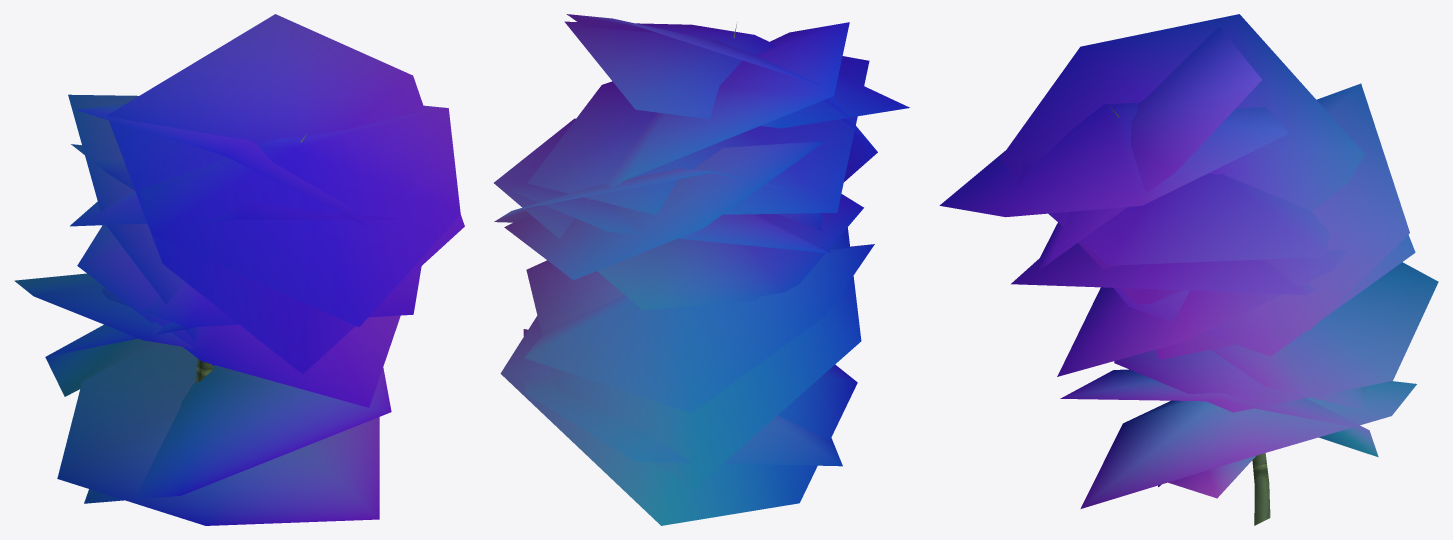
The model's file is SM_EastLands_Bamboo_Small_02_Trunk.fbx.
3 renders of one model, left to right at view 1: azimuth 30°, elevation 25°; view 2: azimuth 150°, elevation 25°; view 3: azimuth 270°, elevation 25°, orthographic. The views are drawn at different scales.
Visible parts, largest first — view 1: SM_EastLands_Bamboo_Small_02_Trunk_LOD0; view 2: SM_EastLands_Bamboo_Small_02_Trunk_LOD0; view 3: SM_EastLands_Bamboo_Small_02_Trunk_LOD0.
Part boxes in pixels (x1,y1,x2,y2): SM_EastLands_Bamboo_Small_02_Trunk_LOD0: [14, 14, 464, 525]; SM_EastLands_Bamboo_Small_02_Trunk_LOD0: [494, 14, 909, 525]; SM_EastLands_Bamboo_Small_02_Trunk_LOD0: [939, 14, 1438, 525].
Size of the model in its own units: 196 by 258 by 246.
